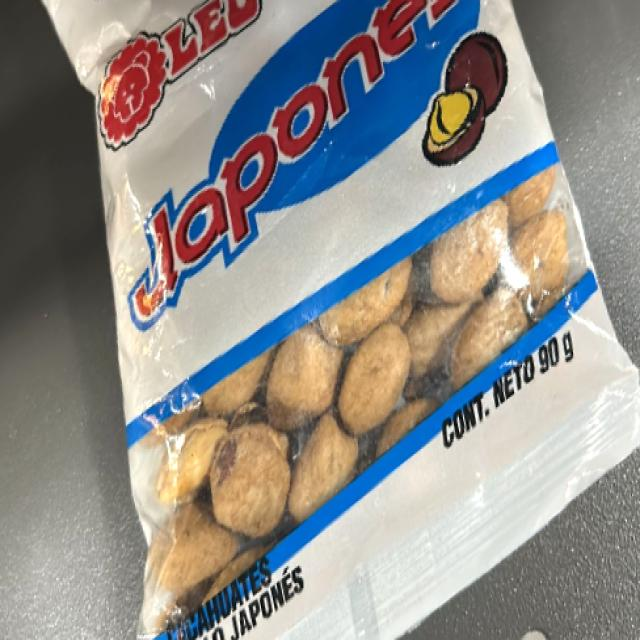leoCacahuates: (139, 0, 543, 568)
